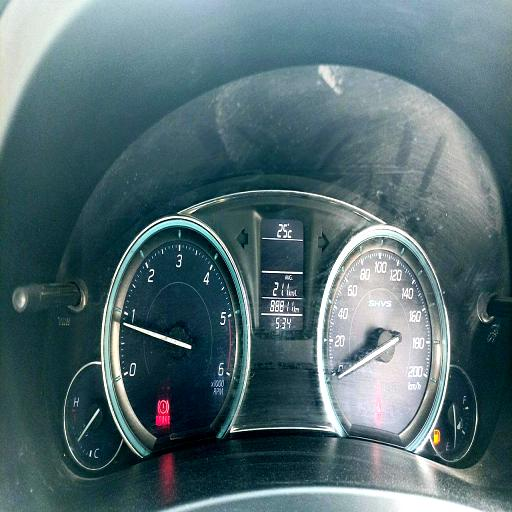brake_system_fault: (157, 399, 169, 415)
tachometer: (100, 215, 253, 454)
